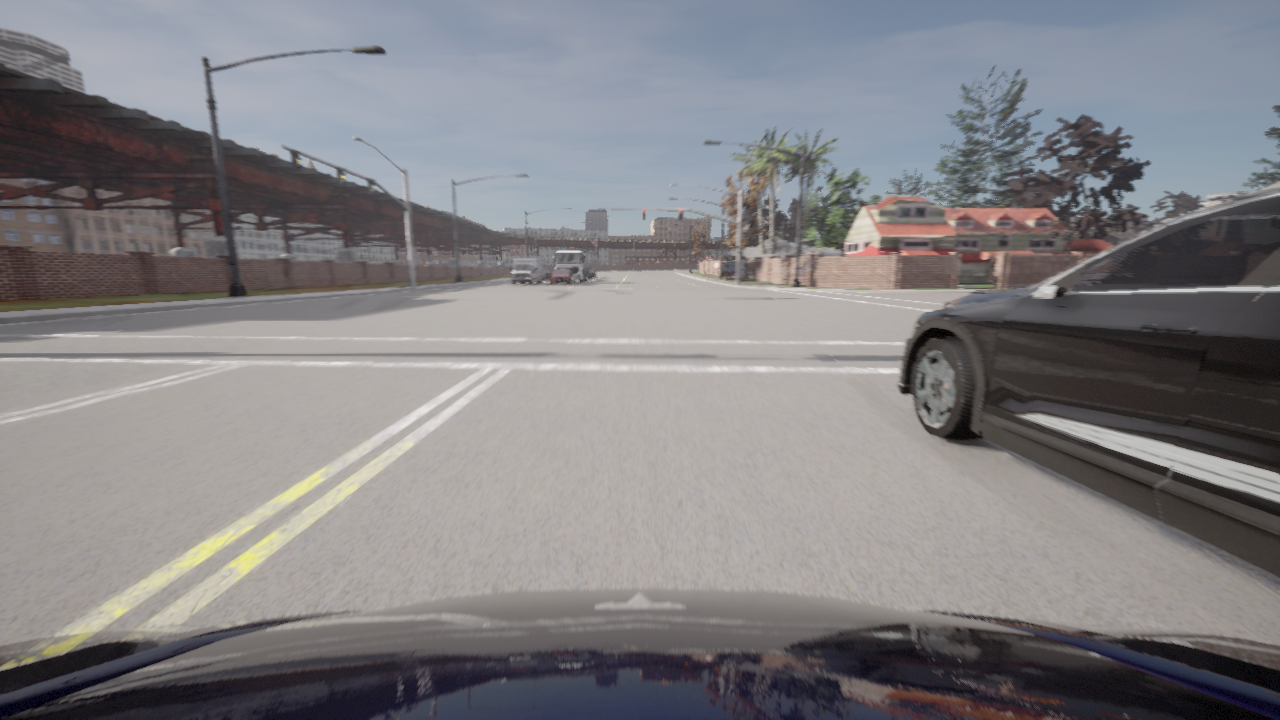cyclist: (0, 588, 1279, 719), (896, 181, 1279, 578), (553, 250, 588, 282), (509, 259, 545, 284), (550, 268, 575, 284), (584, 265, 592, 278), (545, 268, 551, 281), (591, 267, 596, 277), (549, 270, 554, 272), (584, 267, 586, 269)
